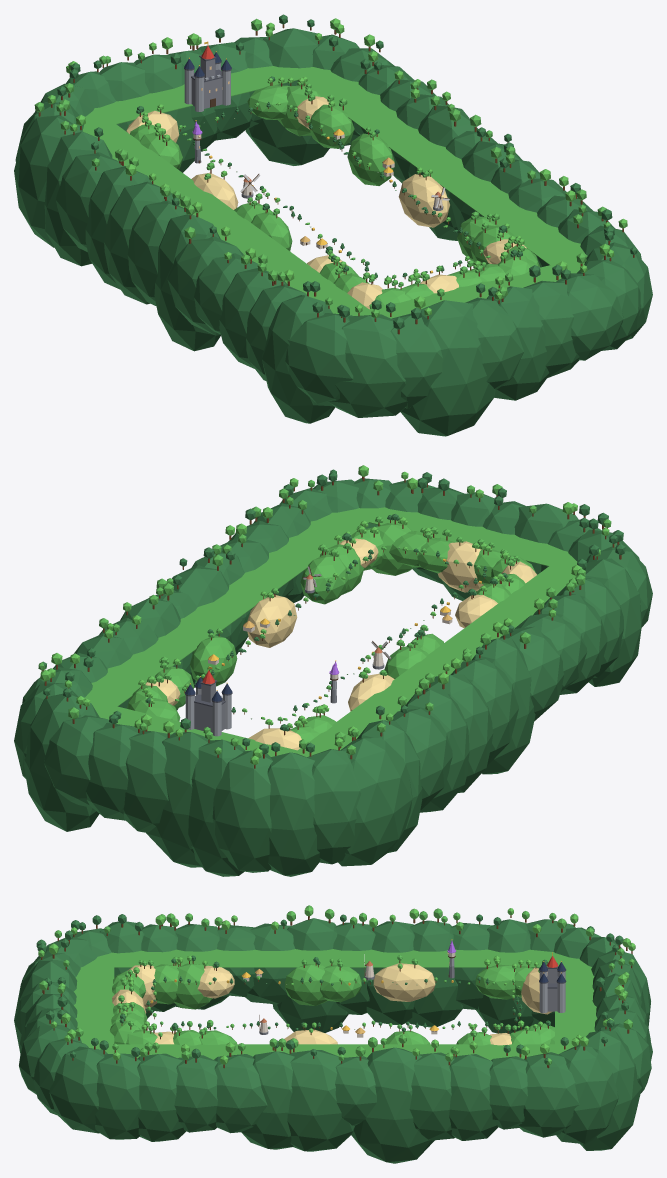
The model's file is CatCafe_Castle_Backdrop.glb.
3 renders of one model, top to bottom at view 1: azimuth 30°, elevation 25°; view 2: azimuth 150°, elevation 25°; view 3: azimuth 270°, elevation 25°, orthographic. The views are drawn at different scales.
Parts seen in each view (by area): view 1: CatCafe_Castle_Backdrop_HillsFar, CatCafe_Castle_Backdrop_Ground, CatCafe_Castle_Backdrop, CatCafe_Castle_Backdrop_Hills; view 2: CatCafe_Castle_Backdrop_HillsFar, CatCafe_Castle_Backdrop_Ground, CatCafe_Castle_Backdrop, CatCafe_Castle_Backdrop_Hills; view 3: CatCafe_Castle_Backdrop_HillsFar, CatCafe_Castle_Backdrop_Ground, CatCafe_Castle_Backdrop_Hills, CatCafe_Castle_Backdrop.
Part boxes in pixels (x1,y1,x2,y2): CatCafe_Castle_Backdrop_HillsFar: (14, 28, 652, 436); CatCafe_Castle_Backdrop_Ground: (82, 66, 587, 318); CatCafe_Castle_Backdrop: (34, 14, 637, 334); CatCafe_Castle_Backdrop_Hills: (126, 85, 540, 309); CatCafe_Castle_Backdrop_HillsFar: (14, 478, 652, 876); CatCafe_Castle_Backdrop_Ground: (84, 507, 577, 757); CatCafe_Castle_Backdrop: (38, 465, 625, 768); CatCafe_Castle_Backdrop_Hills: (126, 523, 536, 750); CatCafe_Castle_Backdrop_HillsFar: (14, 918, 652, 1163); CatCafe_Castle_Backdrop_Ground: (74, 949, 597, 1060); CatCafe_Castle_Backdrop_Hills: (110, 963, 554, 1045); CatCafe_Castle_Backdrop: (36, 905, 635, 1068).
Size of the model in its own units: 645 by 282 by 1088.
Materials: 1 (1 with a texture image).
